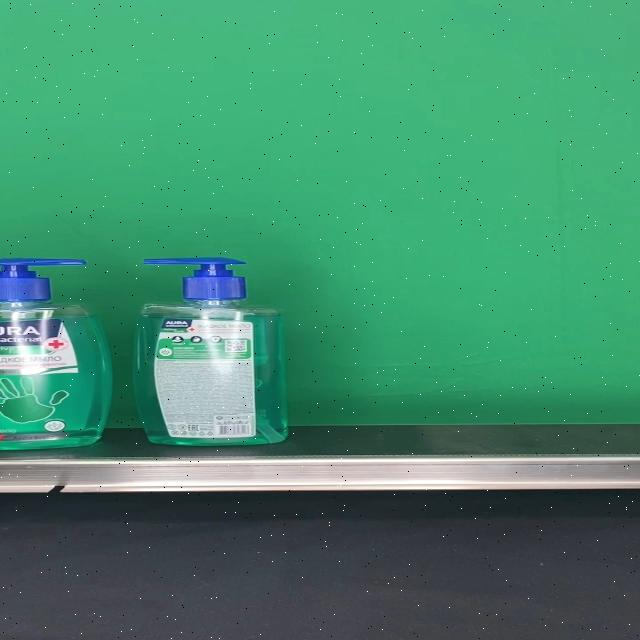Bottle: (134, 257, 289, 445)
Cap: (142, 258, 245, 300)
